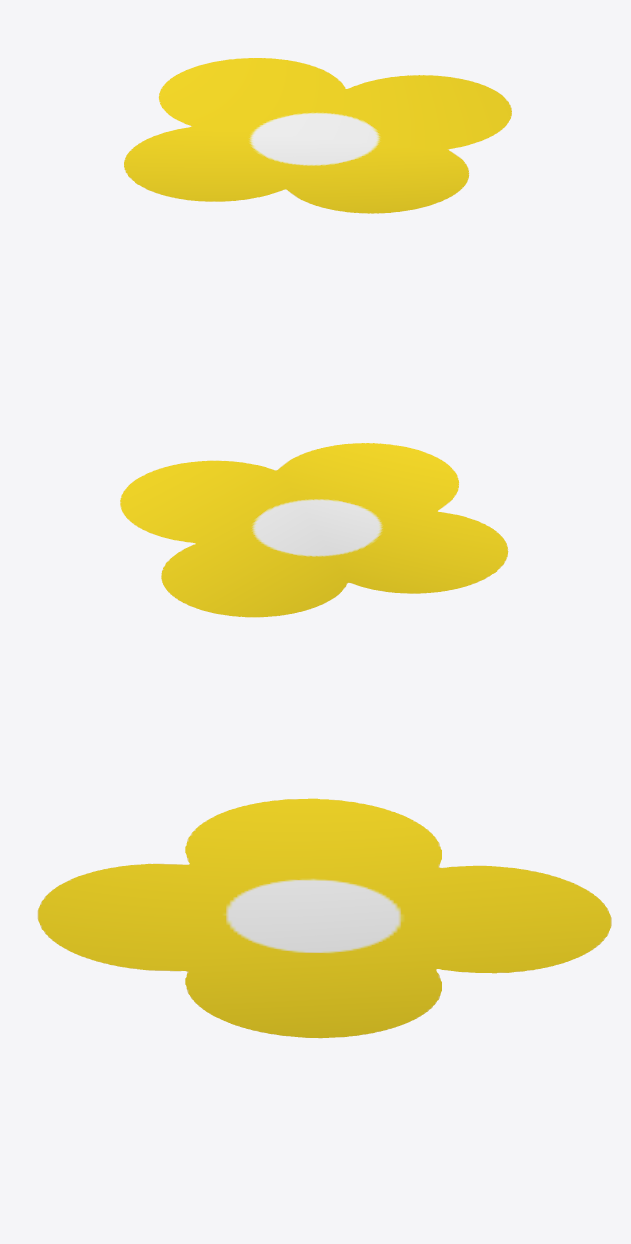
Rendered from Flower2.fbx.
3 views of the same model, one above another, from view 1: azimuth 30°, elevation 25°; view 2: azimuth 150°, elevation 25°; view 3: azimuth 270°, elevation 25° (orthographic). The views are drawn at different scales.
Parts seen in each view (by area): view 1: Flower3; view 2: Flower3; view 3: Flower3.
Boxes of the visible parts, x1,y1,x2,y2 form: Flower3: [124, 58, 511, 213]; Flower3: [120, 443, 508, 617]; Flower3: [37, 798, 611, 1038].
Bounding box in the file's own units: 0.185 × 0.1058 × 0.185.
